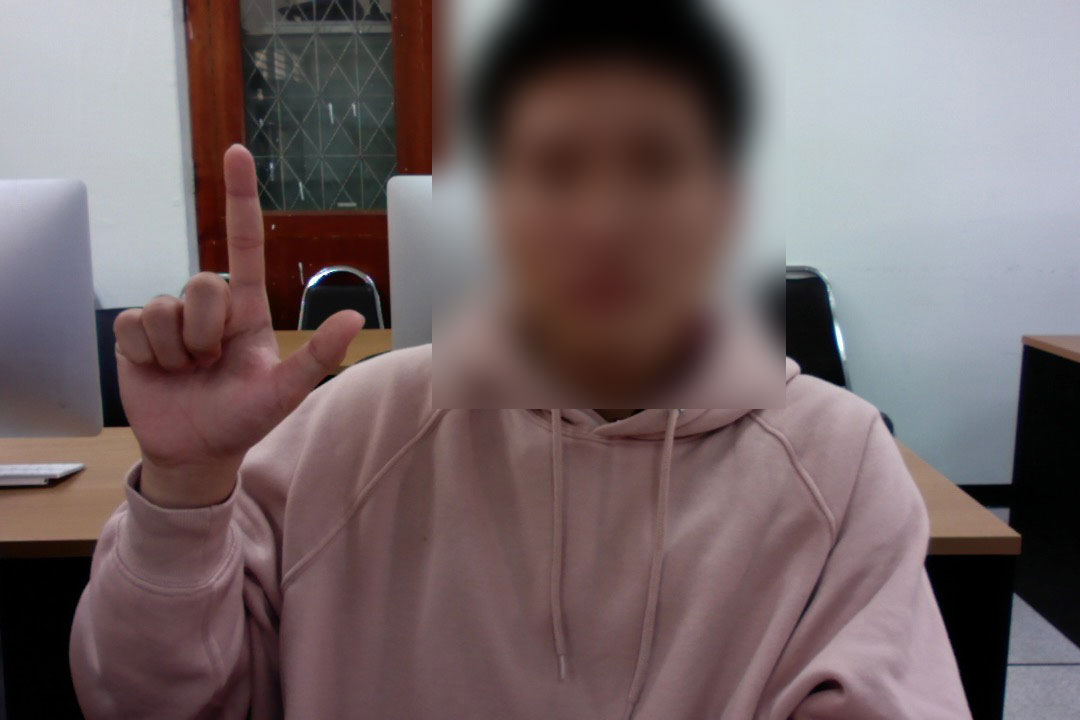lor: (79, 138, 392, 483)
